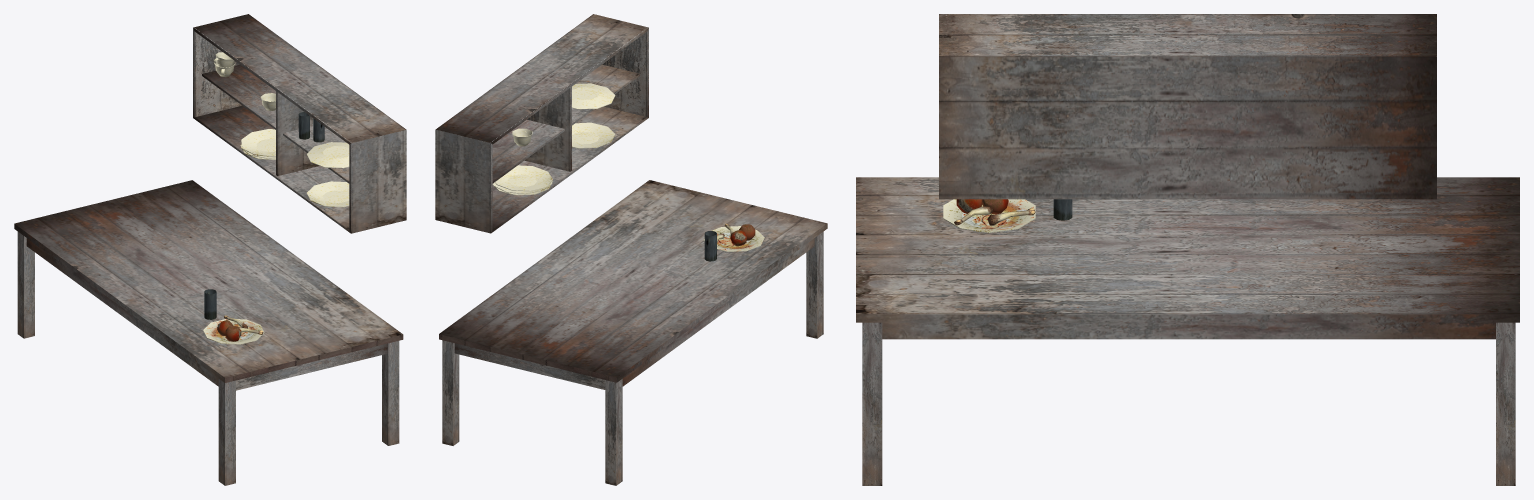
The model's file is MesaCocina.FBX.
3 views of the same model, side by side, from view 1: azimuth 30°, elevation 25°; view 2: azimuth 150°, elevation 25°; view 3: azimuth 270°, elevation 25° (orthographic). The views are drawn at different scales.
Visible parts, largest first — view 1: mesa, Box003, Cylinder019, Cylinder009, Cylinder018, Cylinder020; view 2: mesa, Box003, Cylinder018, Cylinder019, Cylinder009, Cylinder020; view 3: mesa, Box003, Cylinder020.
Part boxes in pixels (<box>): mesa: <box>14,180,403,485</box>; Box003: <box>193,14,406,233</box>; Cylinder019: <box>306,142,349,168</box>; Cylinder009: <box>306,181,349,207</box>; Cylinder018: <box>241,129,275,156</box>; Cylinder020: <box>203,319,264,344</box>; mesa: <box>439,180,827,485</box>; Box003: <box>435,14,648,233</box>; Cylinder018: <box>495,165,552,191</box>; Cylinder019: <box>572,83,615,109</box>; Cylinder009: <box>572,122,615,148</box>; Cylinder020: <box>703,226,764,251</box>; mesa: <box>856,177,1519,485</box>; Box003: <box>939,14,1436,199</box>; Cylinder020: <box>943,199,1035,232</box>.
Size of the model in its own units: 44.85 by 59.37 by 78.75.
